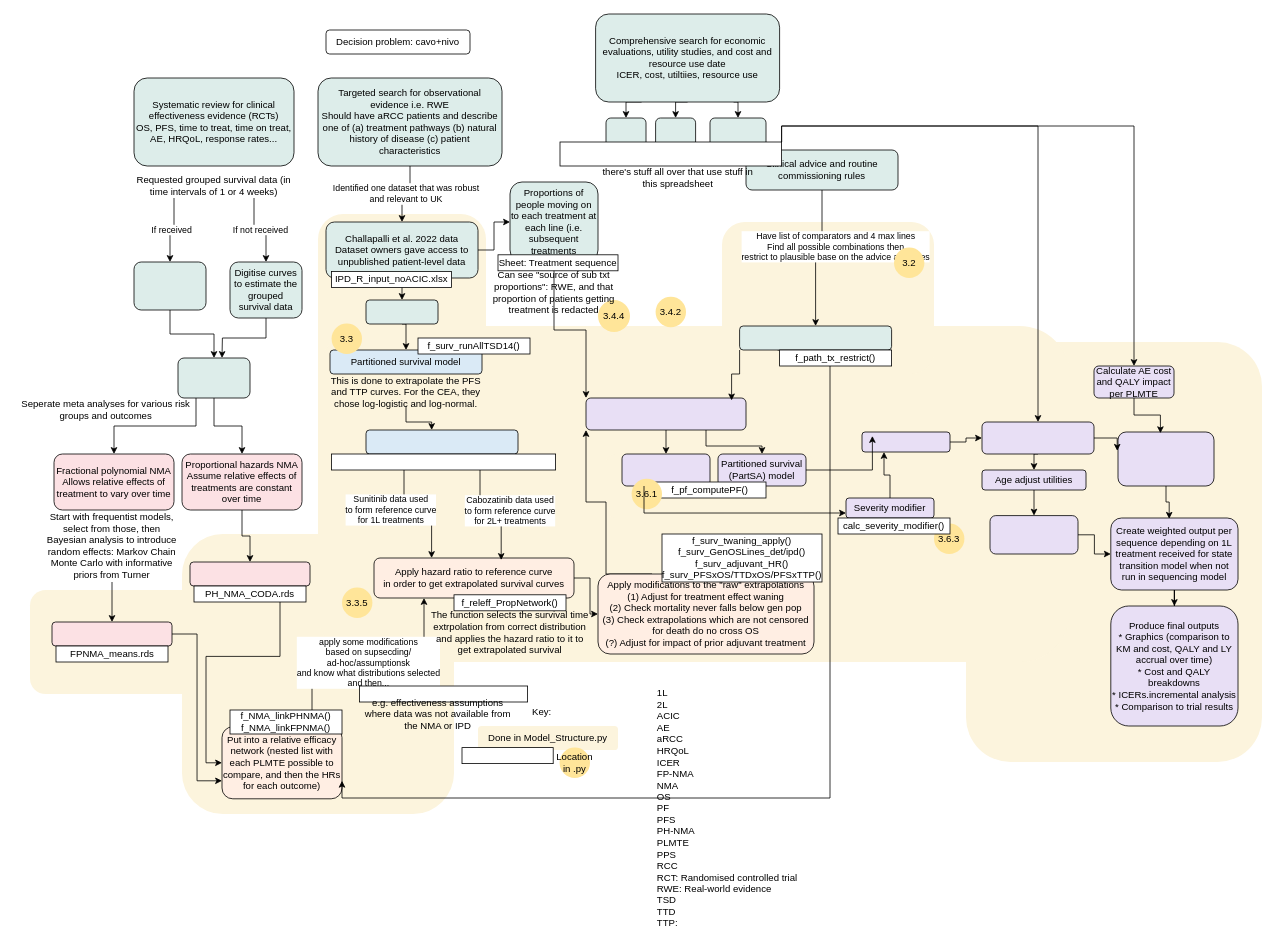
This 1275x944 diagram has some shape labels left out. The centre of each missing label's shape, as x and y in pixels:
Apply costs and resources use to disease model, and add in AE costs: point 1165,458
Apply utilities to disease model and apply AE QALY decrement: point 1037,437
Calculate and apply any severity modifier: point 1033,534
Costs: point 625,133
Data used in economic models/patient flow models: point 665,413
f_NMA_AddAssumptionsToNetwork(): point 443,693
Function or Dataset: point 507,755
Grouped survival data from company: point 169,285
Hazard ratios: point 249,573
Model results: point 905,441
Output from survival analysis: point 441,441
Possible treatment sequences: point 815,337
Resource use: point 737,133
State transition (Markov) model: point 665,469
Survival data: point 401,311
Survival data to use in meta-analysis: point 213,377
Survival_analysis_noTTDorTTPorPPS[NoACIC].rds: point 443,461
Time-varying hazard ratios: point 111,633
Utilities: point 675,133
With other parameters in ID6184_RCC_model inputs....xlsm: point 670,153
